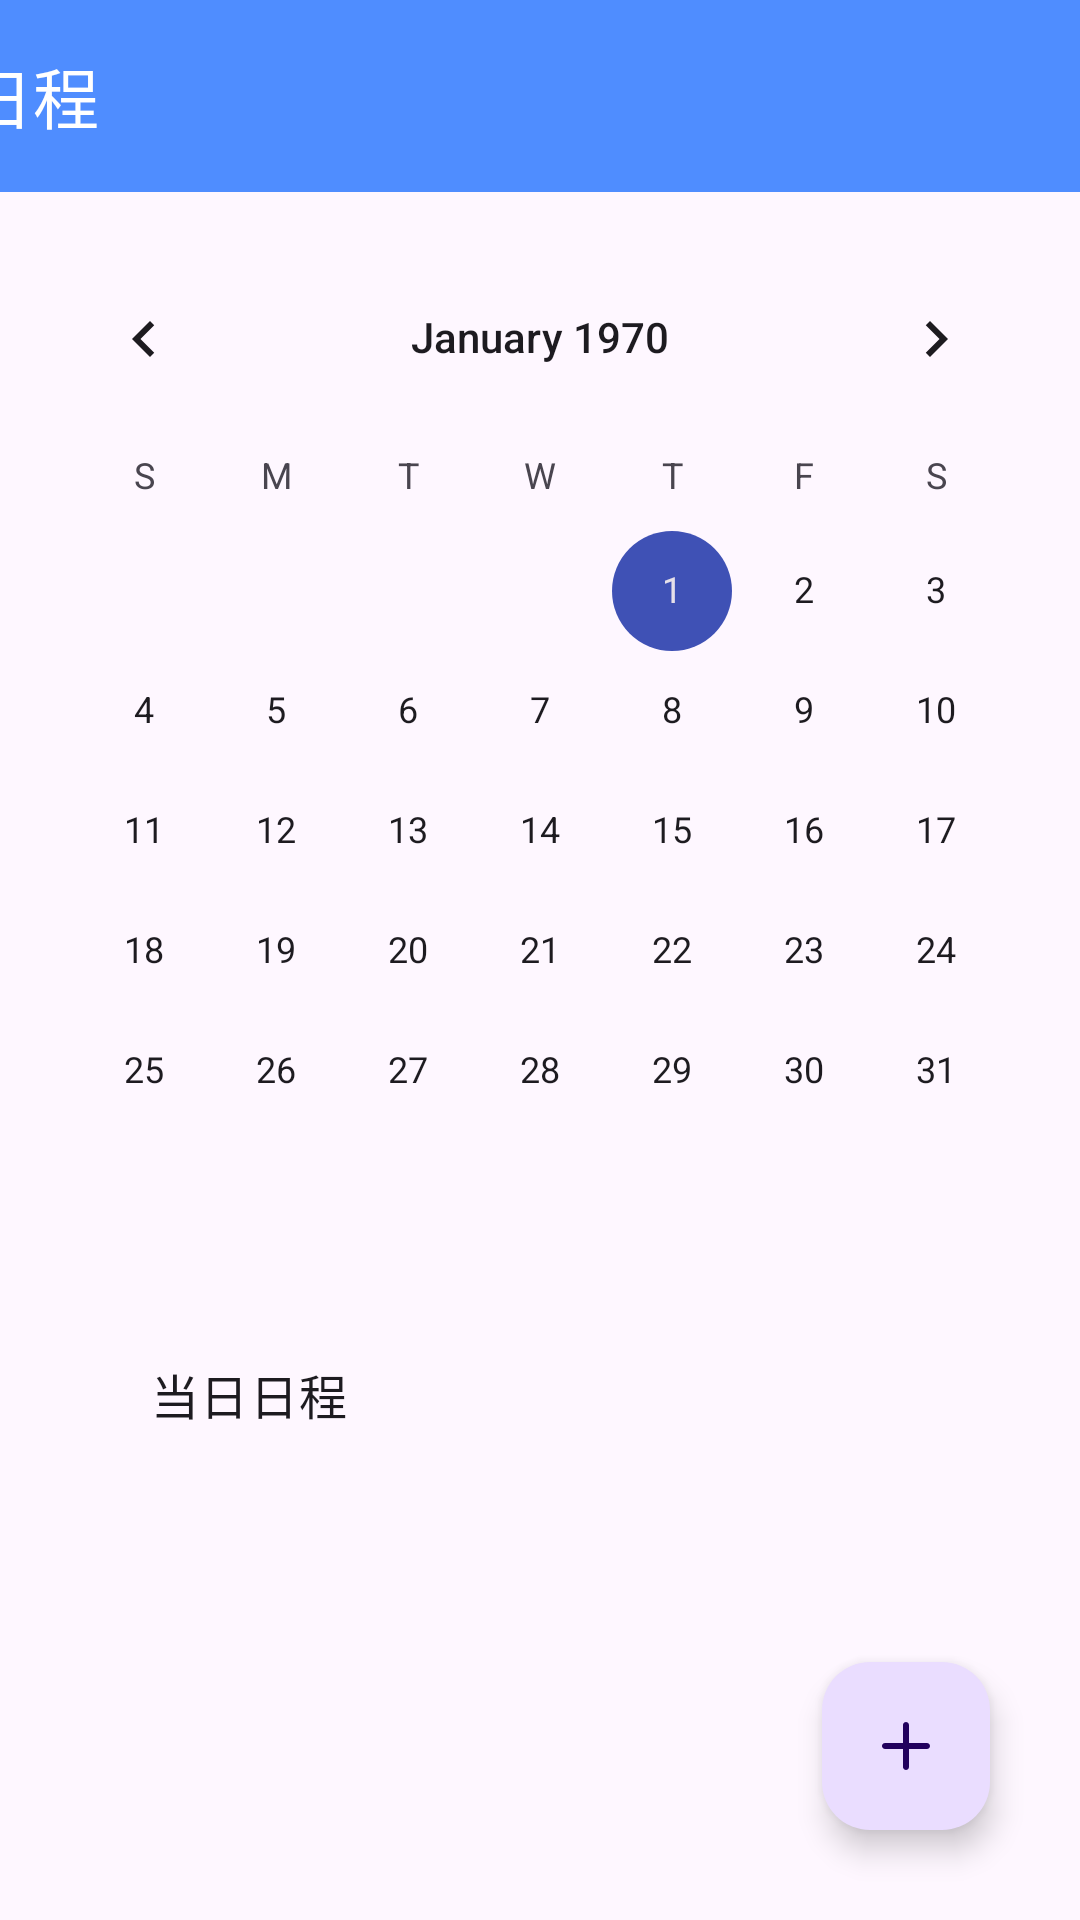

Named icons in this screenshot (1080w x 1920h) and their centers, (x=x, y=y):
添加日程: (x=906, y=1746)
